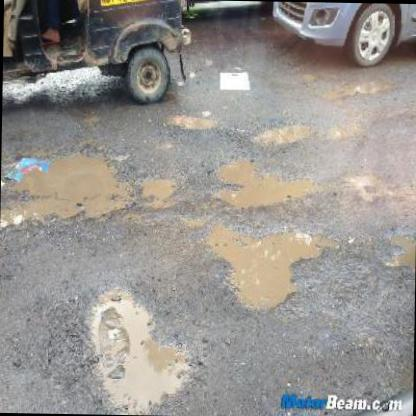pothole: (76, 276, 196, 414), (0, 139, 136, 233), (200, 214, 324, 315), (210, 153, 323, 209), (254, 116, 315, 146), (136, 170, 179, 208), (381, 228, 415, 273), (166, 109, 220, 132)
